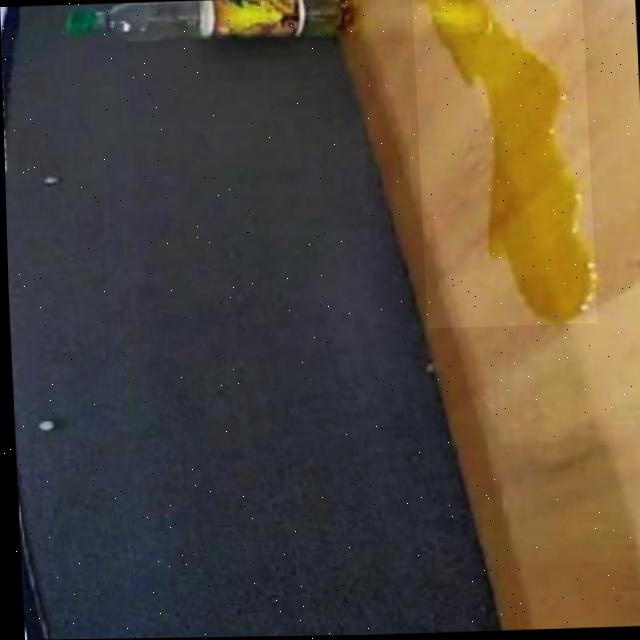spillage: (415, 0, 593, 325)
